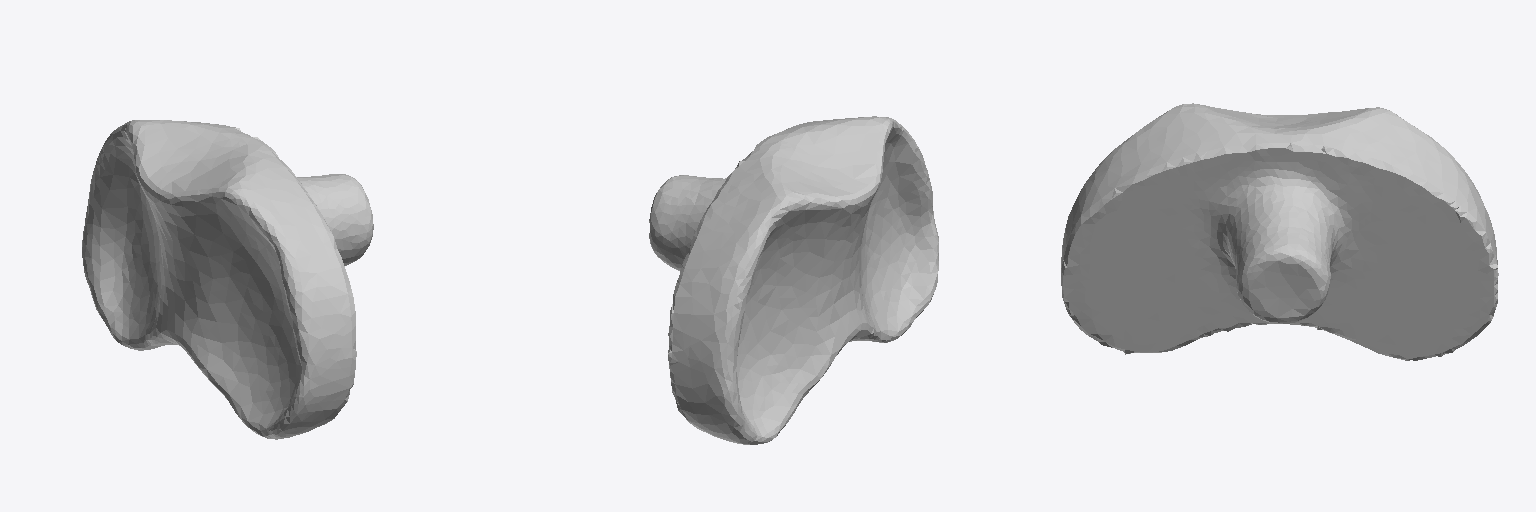
Rendered from ProtesiMediaSistemata.obj.
3 views of the same model, side by side, from view 1: azimuth 30°, elevation 25°; view 2: azimuth 150°, elevation 25°; view 3: azimuth 270°, elevation 25° (orthographic).
Visible parts, largest first — view 1: ProtesiMediaNonSistemata_ProtesiMediaNonSistemata.001; view 2: ProtesiMediaNonSistemata_ProtesiMediaNonSistemata.001; view 3: ProtesiMediaNonSistemata_ProtesiMediaNonSistemata.001.
Part boxes in pixels (bbox=[...]): ProtesiMediaNonSistemata_ProtesiMediaNonSistemata.001: bbox=[82, 120, 373, 439]; ProtesiMediaNonSistemata_ProtesiMediaNonSistemata.001: bbox=[649, 116, 938, 444]; ProtesiMediaNonSistemata_ProtesiMediaNonSistemata.001: bbox=[1061, 103, 1498, 360].
Bounding box in the file's own units: 16.6 × 18.55 × 30.66.